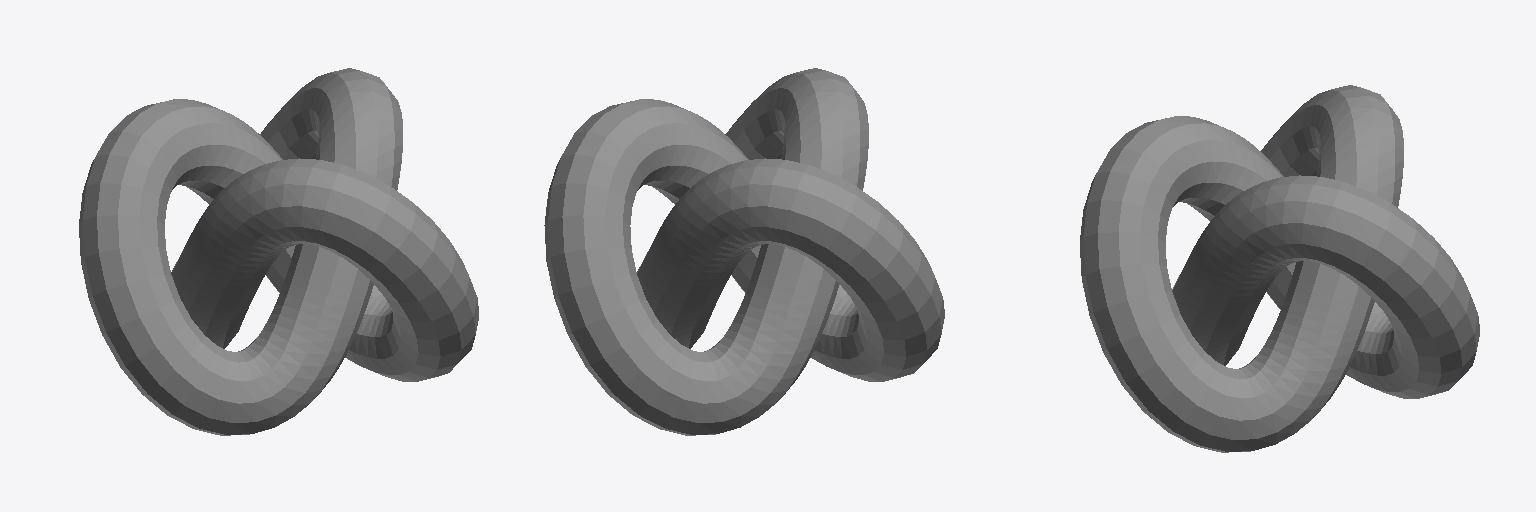
Rendered from quadknot.obj.
3 views of the same model, side by side, from view 1: azimuth 30°, elevation 25°; view 2: azimuth 150°, elevation 25°; view 3: azimuth 270°, elevation 25° (orthographic).
Bounding box in the file's own units: 171 × 134 × 181.